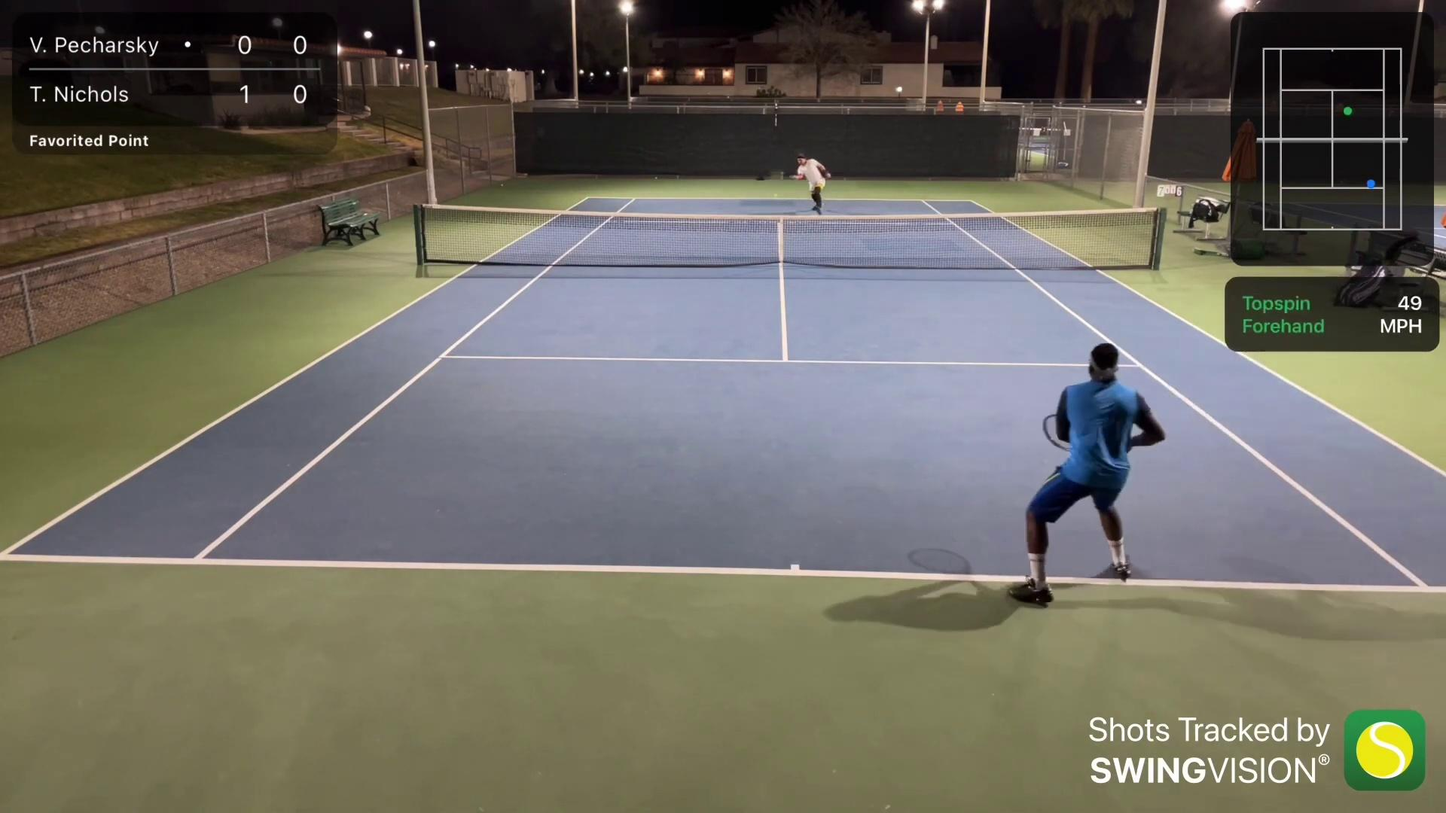ball: (772, 190, 779, 201), (497, 182, 506, 187), (653, 175, 660, 180)
